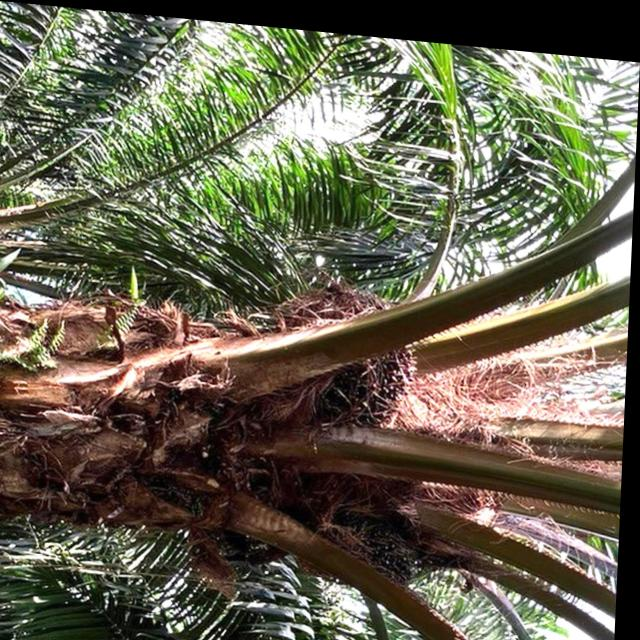ripe: (353, 346, 421, 399)
